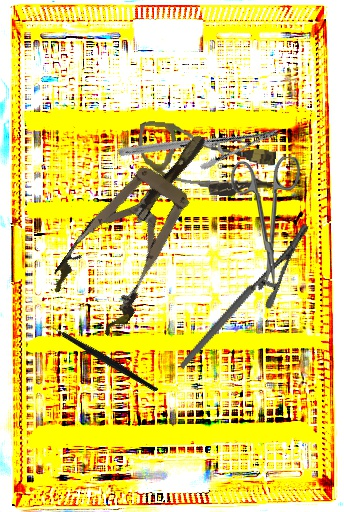Cannula: (133, 119, 279, 202)
Chopper: (38, 293, 159, 424)
Iris Scissors: (230, 156, 303, 287)
Needle Holder: (148, 220, 340, 370), (116, 66, 281, 219)
Speculum: (41, 112, 240, 341)
